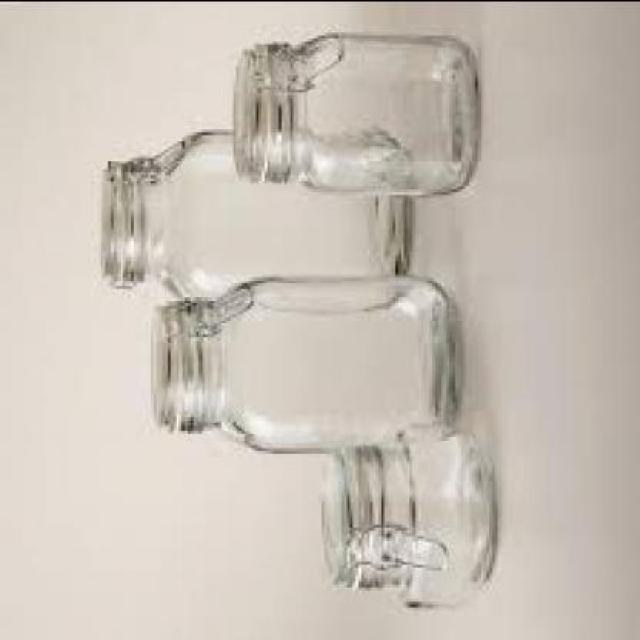GLASS: (151, 268, 452, 452), (96, 128, 410, 298), (233, 31, 475, 194), (318, 419, 492, 606)
